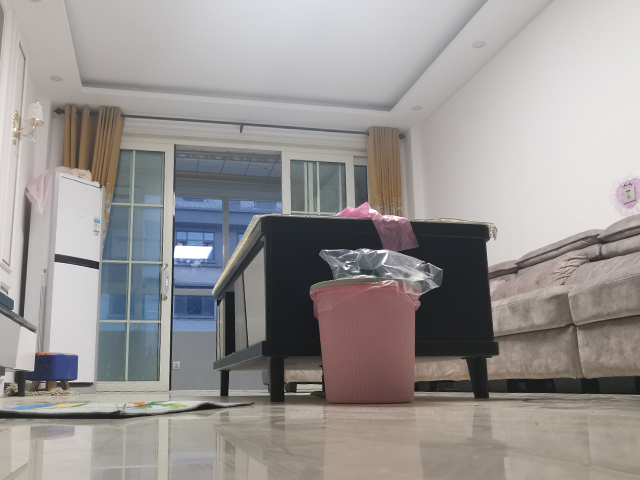cabinet: (1, 290, 43, 396)
carpet: (1, 396, 259, 421)
sofa: (510, 214, 639, 397)
stool: (21, 350, 80, 395)
table: (210, 211, 501, 406)
trashcan: (307, 274, 422, 406)
